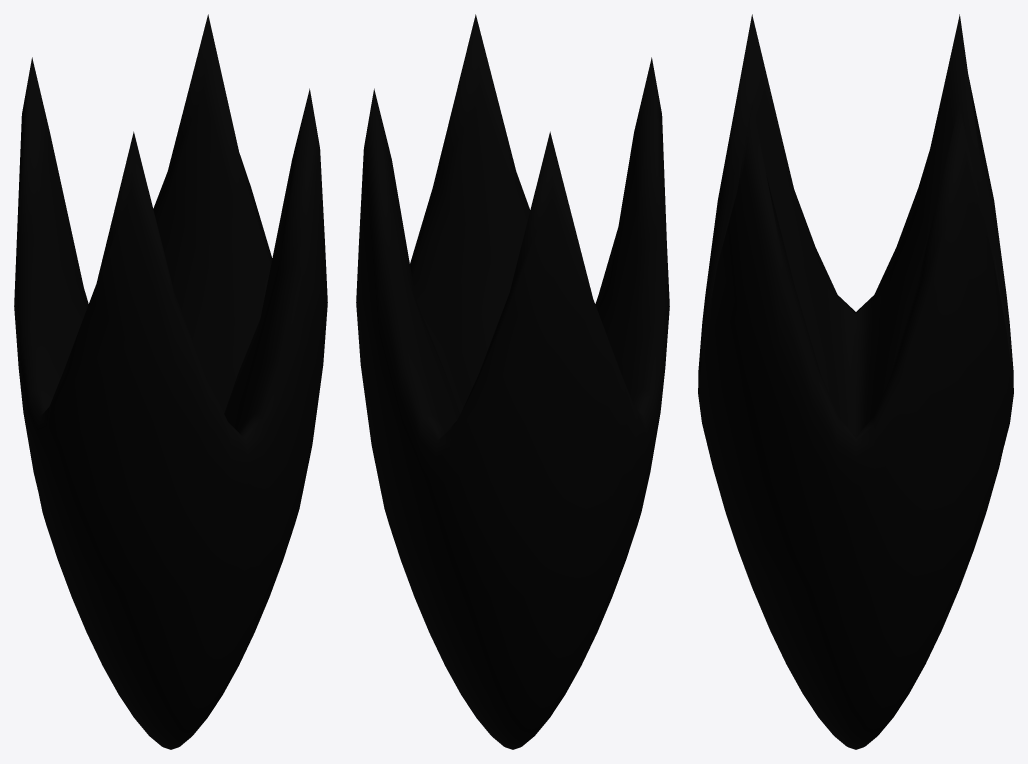
The model's file is shieldDestructibleTop.fbx.
3 renders of one model, left to right at view 1: azimuth 30°, elevation 25°; view 2: azimuth 150°, elevation 25°; view 3: azimuth 270°, elevation 25°, orthographic. The views are drawn at different scales.
Visible parts, largest first — view 1: SurfSphere; view 2: SurfSphere; view 3: SurfSphere.
Part boxes in pixels (x1=…): SurfSphere: x1=14, y1=14, x2=327, y2=749; SurfSphere: x1=356, y1=14, x2=669, y2=749; SurfSphere: x1=698, y1=14, x2=1013, y2=749.
Bounding box in the file's own units: 2.31 × 5.59 × 2.31.
